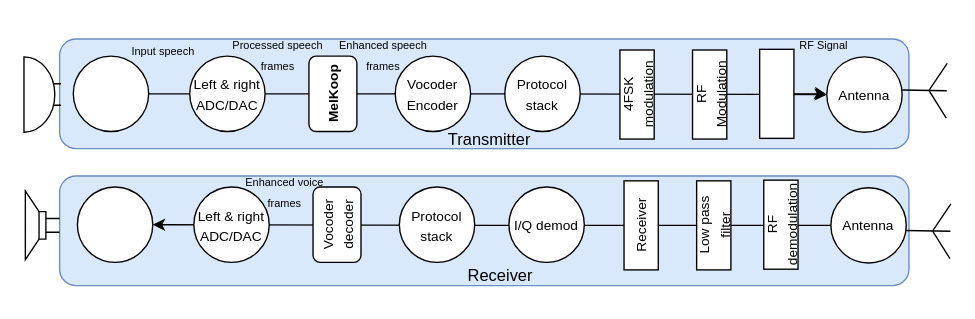
Some shapes in this 975 by 319 pixel diagram are drawn without their labels. The shapes that lost their labels are listed below. From the top down, each one's centre as x and y in pixels, then its label:
At point 110,93: "Microphone".
At point 776,93: "Power amplifier(PA)".
At point 114,224: "Speaker".
